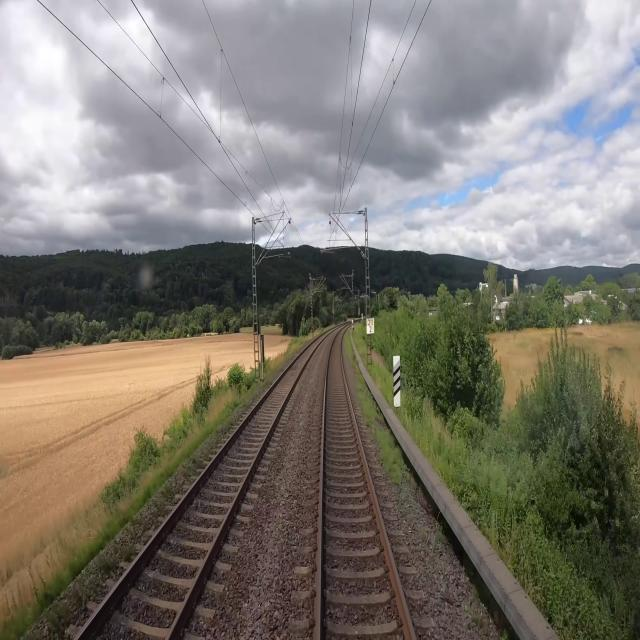Plant: (44, 510, 151, 637), (354, 366, 431, 508), (468, 587, 483, 626), (153, 501, 168, 519), (160, 481, 172, 500), (433, 530, 443, 550), (191, 456, 206, 469), (419, 526, 428, 543), (182, 466, 191, 478)
